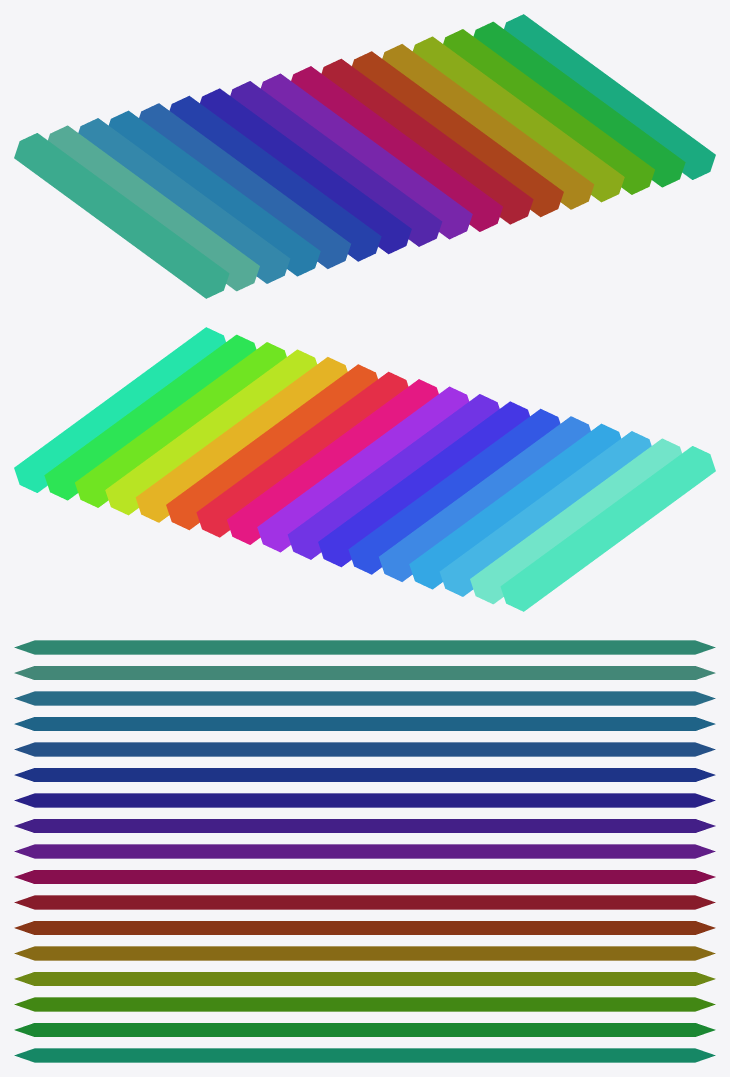
The model's file is renkli_palet 1.fbx.
3 renders of one model, top to bottom at view 1: azimuth 30°, elevation 25°; view 2: azimuth 150°, elevation 25°; view 3: azimuth 270°, elevation 25°, orthographic. The views are drawn at different scales.
Visible parts, largest first — view 1: Plane.001; view 2: Plane.001; view 3: Plane.001.
Boxes of the visible parts, bbox=[...] form: Plane.001: bbox=[14, 14, 715, 298]; Plane.001: bbox=[14, 327, 715, 611]; Plane.001: bbox=[14, 640, 715, 1062].
Bounding box in the file's own units: 2159 × 79.74 × 1498.
